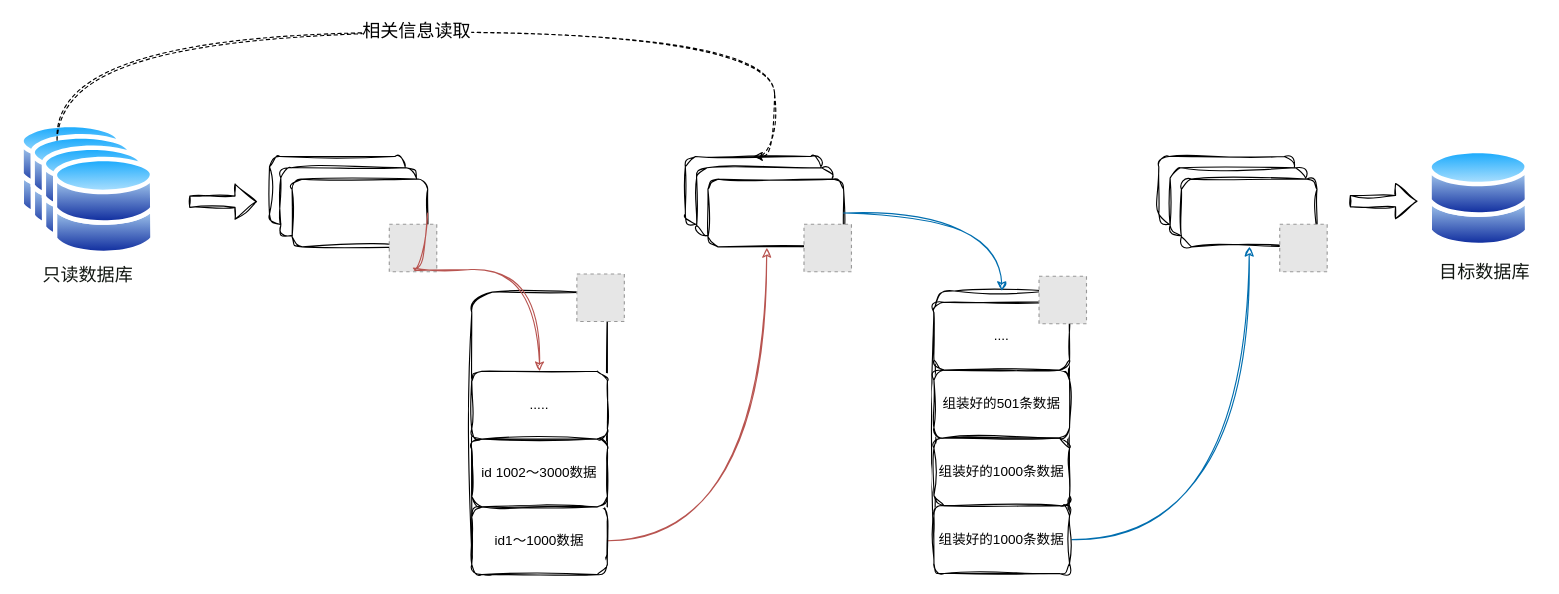
Image size: 1559x594. Some labels were removed from this diagram. Grey dashed boxes stand in for pictures. The centre of each missing label's shape, as x and y in pixels:
"数据加载" goes at pixel 1248 212.
"数据提取" goes at pixel 359 212.
"数据转换" goes at pixel 775 212.
